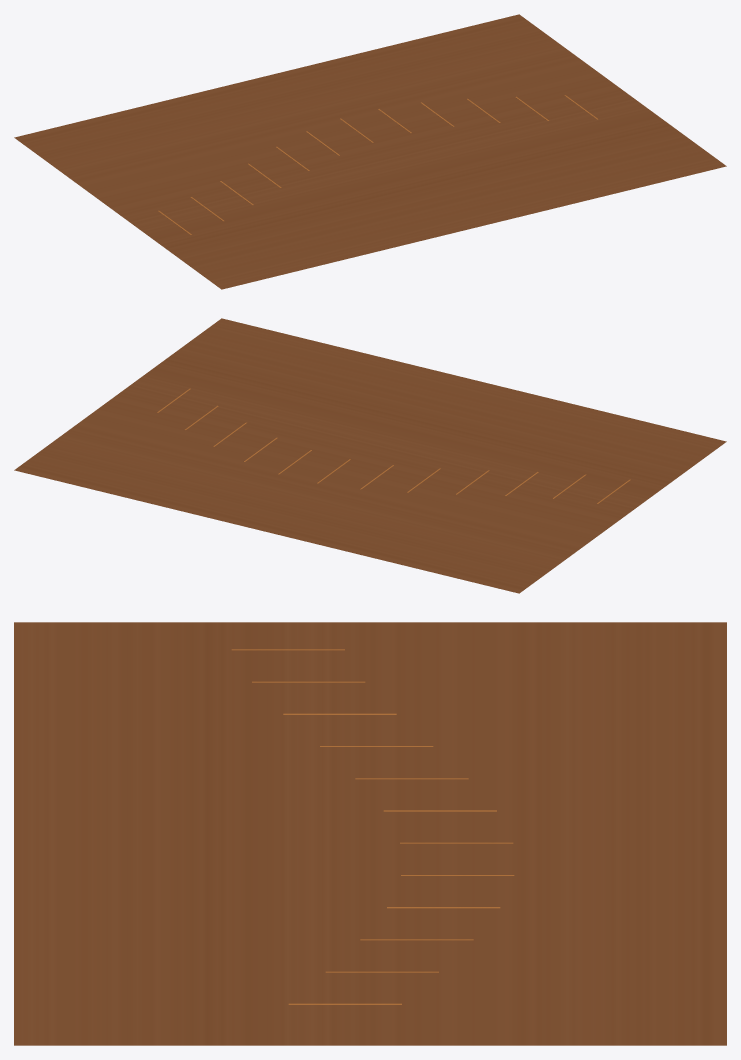
Rendered from 252_L119_L3_LayerReference.obj.
The picture shows the model from 3 angles, top to bottom: view 1: azimuth 30°, elevation 25°; view 2: azimuth 150°, elevation 25°; view 3: azimuth 270°, elevation 25°; orthographic projection. The views are drawn at different scales.
Visible parts, largest first — view 1: 252_L119_L3_LayerReference; view 2: 252_L119_L3_LayerReference; view 3: 252_L119_L3_LayerReference.
Boxes of the visible parts, x1,y1,x2,y2 form: 252_L119_L3_LayerReference: (14, 14, 726, 289); 252_L119_L3_LayerReference: (14, 318, 726, 593); 252_L119_L3_LayerReference: (14, 622, 726, 1045).
Size of the model in its own units: 0.486 by 0.000202 by 0.346.
Materials: 2 (2 with a texture image).
